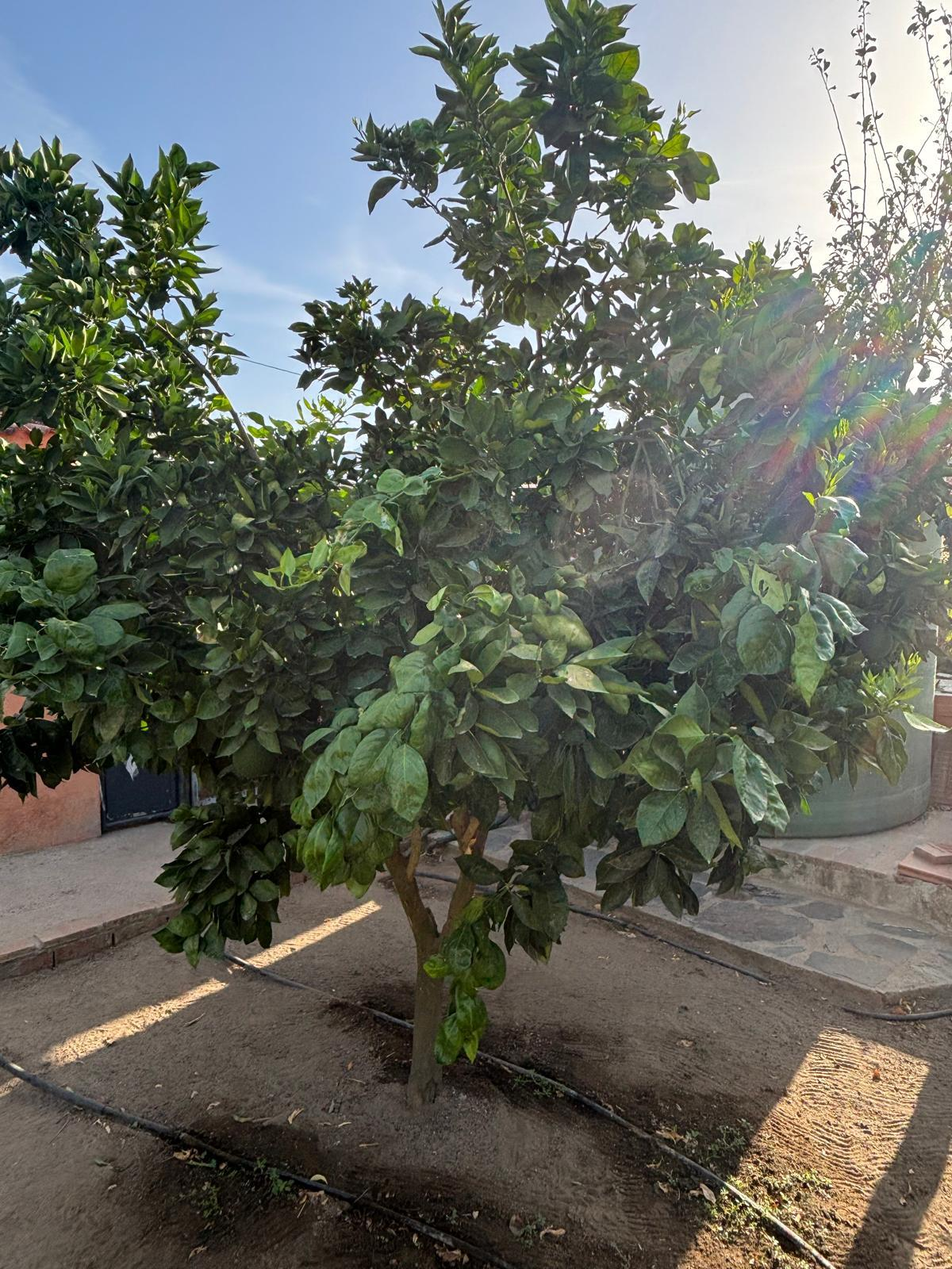naranjo: (8, 217, 893, 1107)
